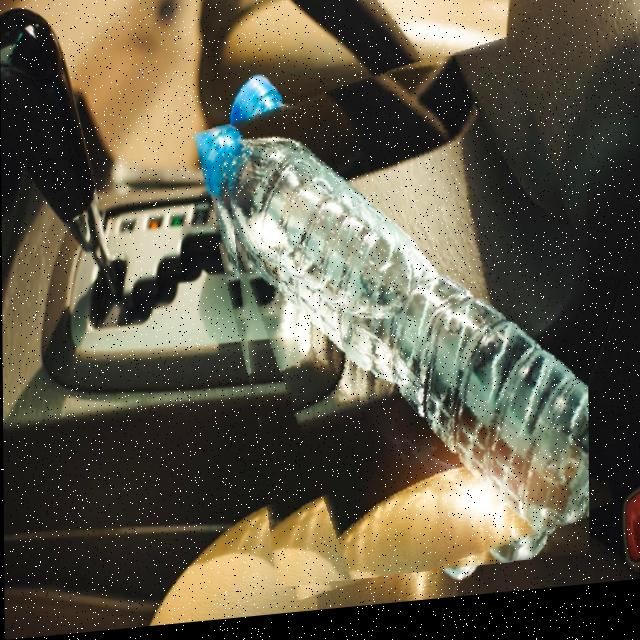litter: (216, 55, 589, 598)
